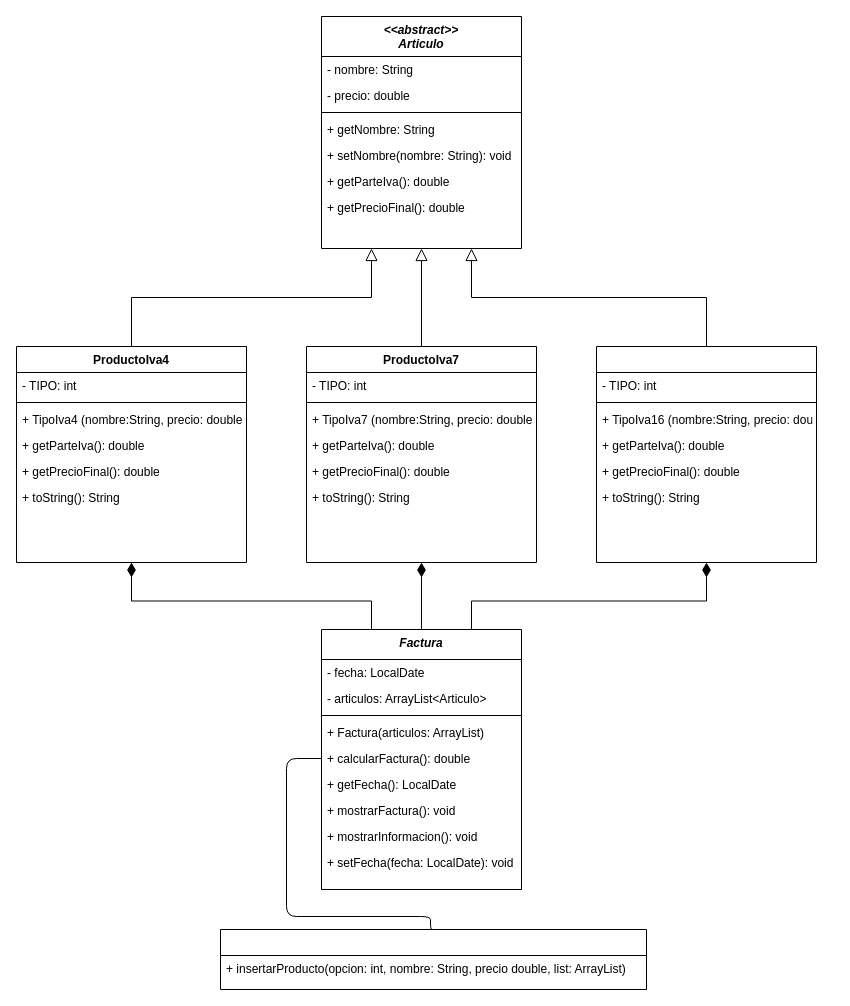
Some shapes in this 850 by 1006 pixel diagram are drawn without their labels. The shapes that lost their labels are listed below. From the top down, each one's box as (x1, y1, x2, y2) in pixels, then its label:
(596, 346, 816, 562): ProductoIva16
(220, 928, 646, 990): AñadirFactura
